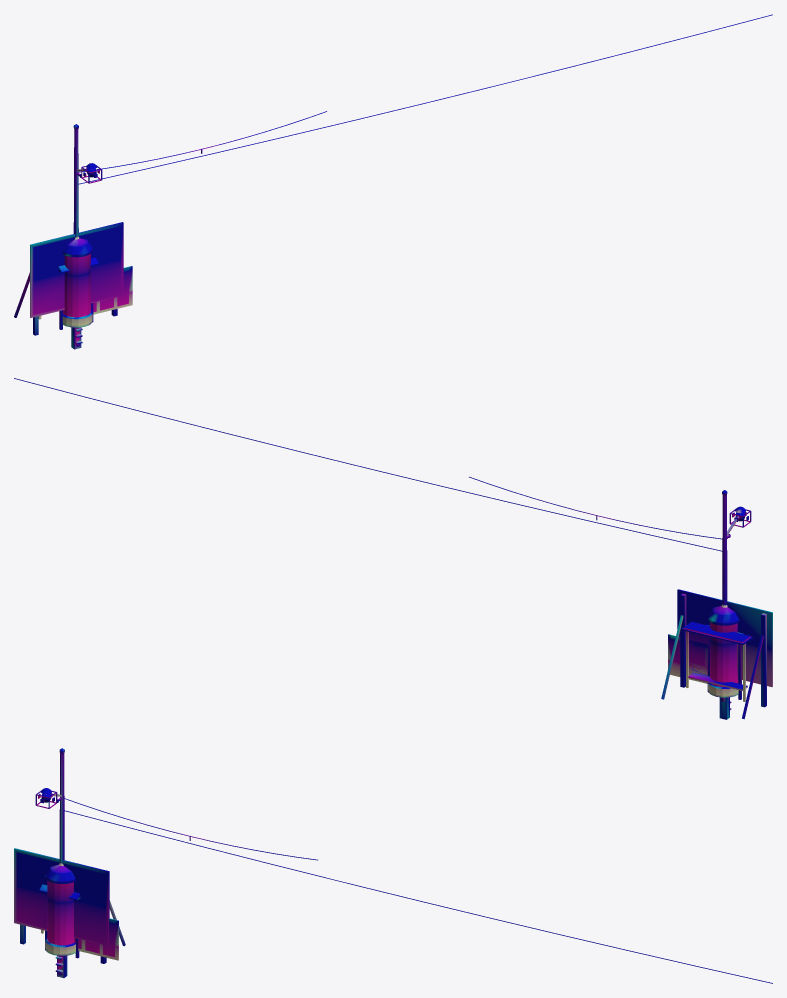
File: furniture_kit.glb
3 views of the same model, one above another, from view 1: azimuth 30°, elevation 25°; view 2: azimuth 150°, elevation 25°; view 3: azimuth 330°, elevation 25° (orthographic). The views are drawn at different scales.
Visible parts, largest first — view 1: ward_hoarding, poster_column, trolley_wire, poster_cluster, lamp_dead; view 2: ward_hoarding, poster_column, tram_stop, poster_cluster, trolley_wire, lamp_dead; view 3: ward_hoarding, poster_column, trolley_wire, poster_cluster, lamp_dead.
Boxes of the visible parts, x1=… form: ward_hoarding: x1=14, y1=222, x2=123, y2=335; poster_column: x1=62, y1=236, x2=92, y2=327; trolley_wire: x1=78, y1=14, x2=772, y2=184; poster_cluster: x1=93, y1=266, x2=132, y2=314; lamp_dead: x1=72, y1=124, x2=97, y2=331; ward_hoarding: x1=661, y1=589, x2=772, y2=719; poster_column: x1=708, y1=604, x2=739, y2=697; tram_stop: x1=681, y1=622, x2=752, y2=701; poster_cluster: x1=668, y1=634, x2=707, y2=683; trolley_wire: x1=14, y1=378, x2=722, y2=551; lamp_dead: x1=721, y1=490, x2=745, y2=702; ward_hoarding: x1=14, y1=848, x2=125, y2=963; poster_column: x1=45, y1=863, x2=75, y2=955; trolley_wire: x1=64, y1=810, x2=772, y2=983; poster_cluster: x1=74, y1=918, x2=118, y2=960; lamp_dead: x1=40, y1=748, x2=65, y2=960.
Bounding box in the file's own units: 32 × 9.2 × 3.11.
